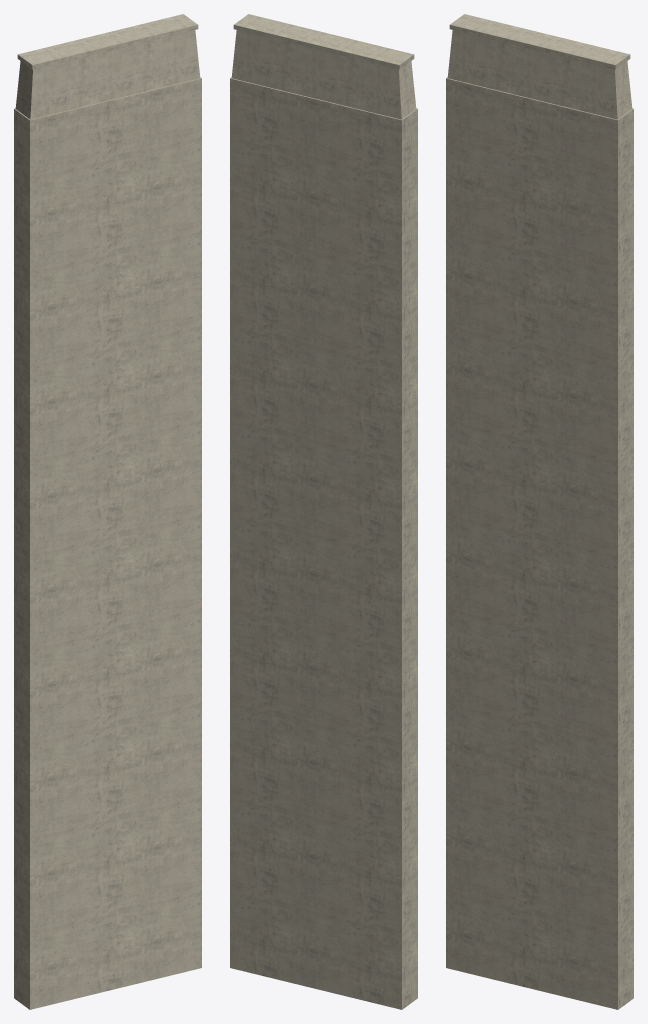
Rendered from BridgePillar2-6L.FBX.
3 views of the same model, side by side, from view 1: azimuth 30°, elevation 25°; view 2: azimuth 150°, elevation 25°; view 3: azimuth 330°, elevation 25° (orthographic).
Visible parts, largest first — view 1: BridgePillar2-6L; view 2: BridgePillar2-6L; view 3: BridgePillar2-6L.
Part boxes in pixels (x1,y1,x2,y2): BridgePillar2-6L: [14, 14, 201, 1009]; BridgePillar2-6L: [230, 14, 417, 1009]; BridgePillar2-6L: [446, 14, 633, 1009].
Bounding box in the file's own units: 40.48 × 212 × 6.5.
